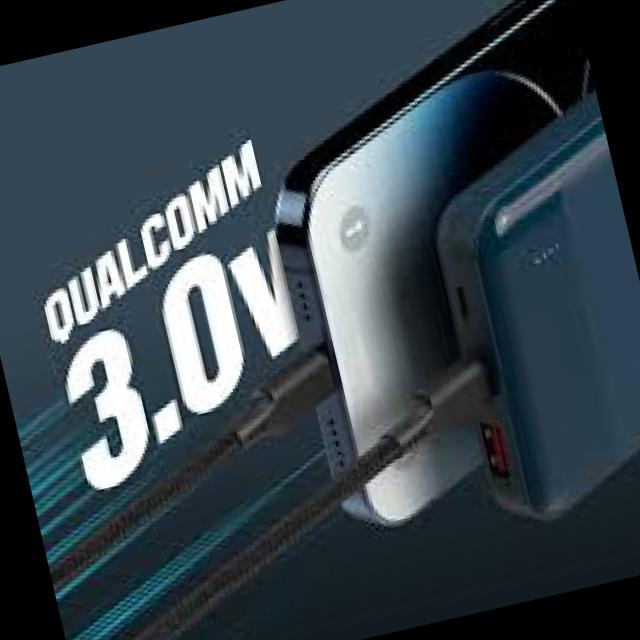portable-charger: (406, 88, 640, 530)
